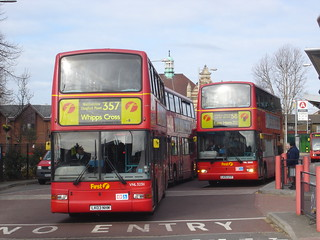bus: (50, 48, 195, 215), (196, 80, 284, 186), (307, 132, 320, 163)
